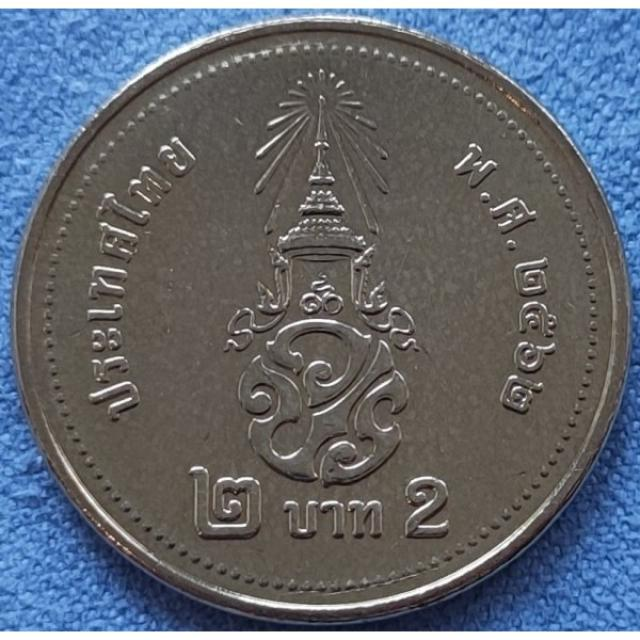2 Bath: (15, 16, 633, 630)
